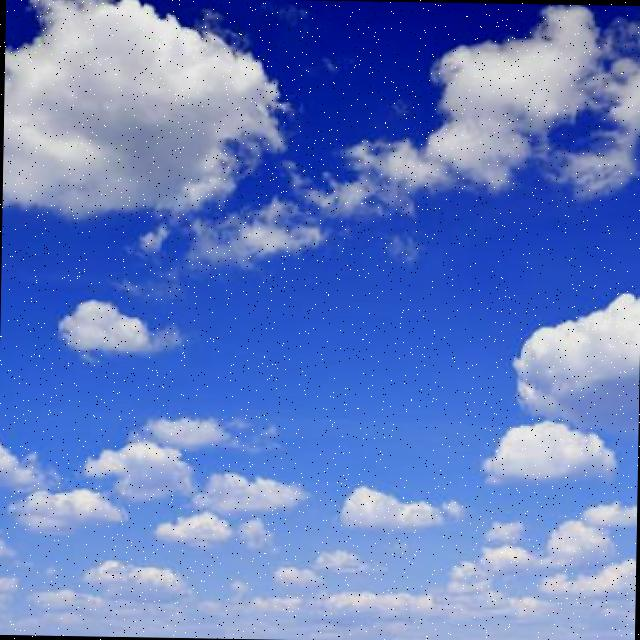Cu: (1, 1, 640, 586)
